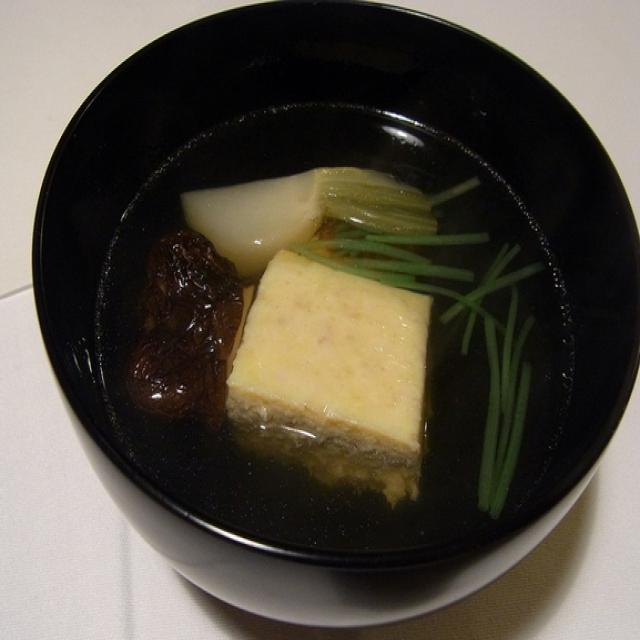汤锅炖物: (28, 1, 633, 588)
